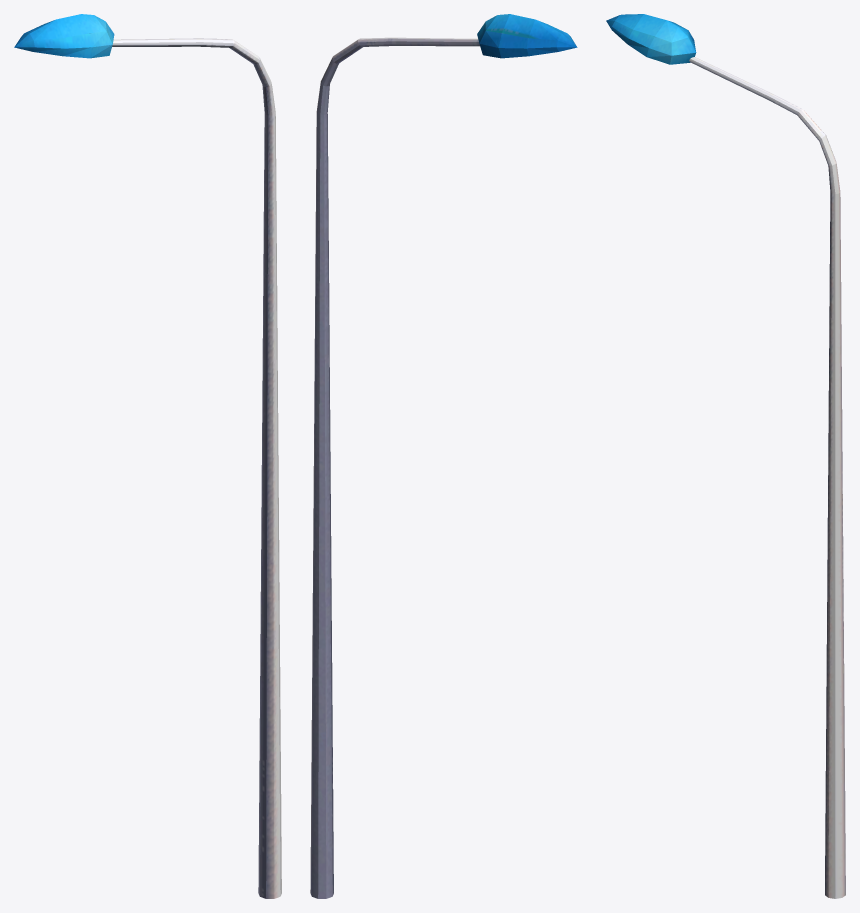
File: lamp3.gltf
3 views of the same model, side by side, from view 1: azimuth 30°, elevation 25°; view 2: azimuth 150°, elevation 25°; view 3: azimuth 330°, elevation 25° (orthographic). The views are drawn at different scales.
Visible parts, largest first — view 1: Node_ca4e8daf-03b9-4308-b431-2e6650d53f55_0_0; view 2: Node_ca4e8daf-03b9-4308-b431-2e6650d53f55_0_0; view 3: Node_ca4e8daf-03b9-4308-b431-2e6650d53f55_0_0.
Part boxes in pixels (bbox=[...]): Node_ca4e8daf-03b9-4308-b431-2e6650d53f55_0_0: bbox=[14, 14, 281, 898]; Node_ca4e8daf-03b9-4308-b431-2e6650d53f55_0_0: bbox=[310, 14, 577, 898]; Node_ca4e8daf-03b9-4308-b431-2e6650d53f55_0_0: bbox=[606, 14, 845, 898].
Size of the model in its own units: 3.13 by 10.45 by 0.6426.
Materials: 1 (1 with a texture image).
